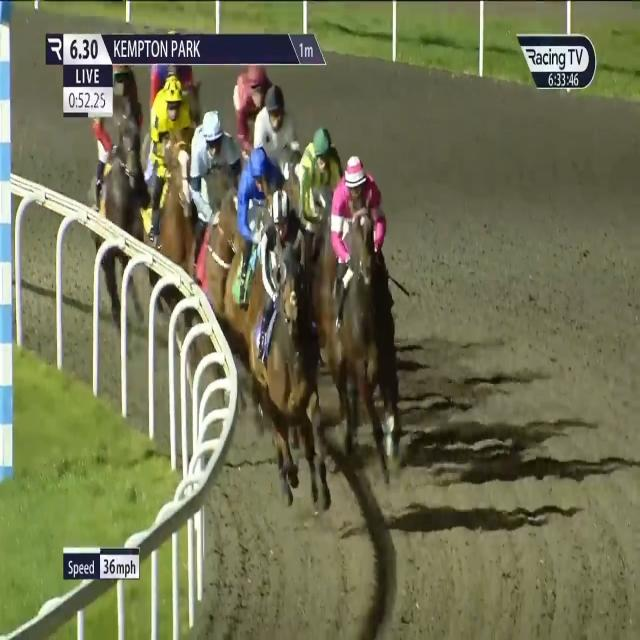horses-racing: (334, 156, 406, 479), (258, 191, 319, 504), (298, 130, 346, 323), (149, 72, 194, 274), (188, 113, 238, 268), (94, 64, 136, 235), (260, 92, 310, 209), (228, 56, 284, 155), (237, 143, 272, 295), (143, 24, 197, 89)
